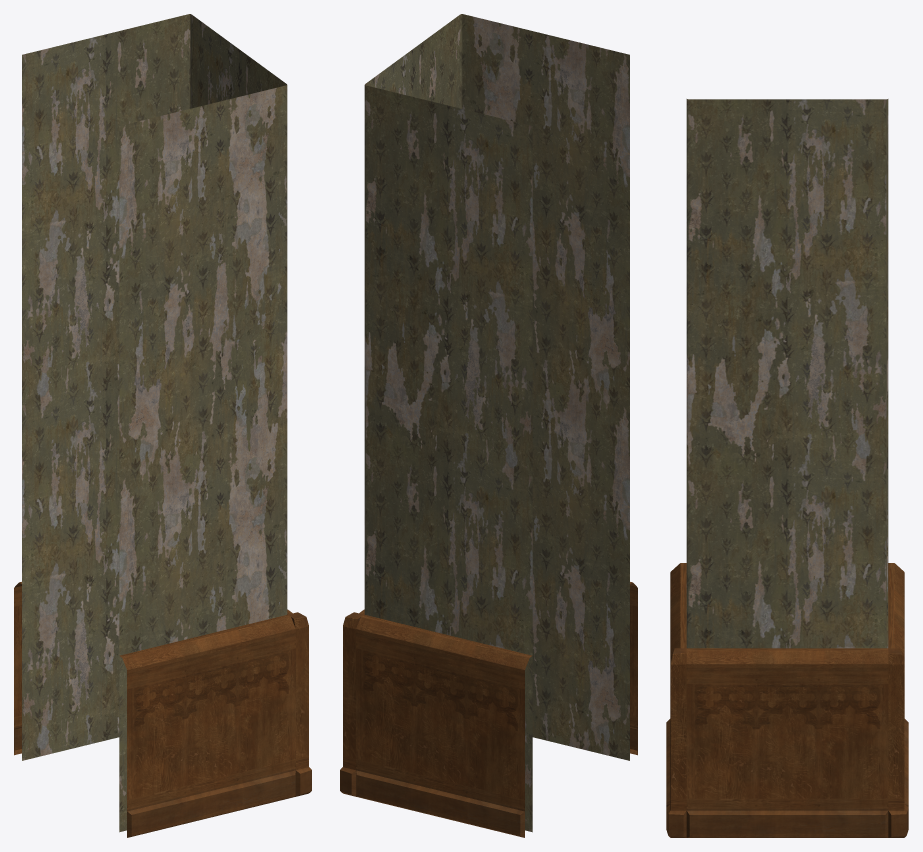
File: SM_Wall_Paper_1g.fbx
3 renders of one model, left to right at view 1: azimuth 30°, elevation 25°; view 2: azimuth 150°, elevation 25°; view 3: azimuth 270°, elevation 25°, orthographic. The views are drawn at different scales.
Visible parts, largest first — view 1: SM_Wall_Paper_1g; view 2: SM_Wall_Paper_1g; view 3: SM_Wall_Paper_1g.
Boxes of the visible parts, x1,y1,x2,y2 form: SM_Wall_Paper_1g: (14,14,311,837); SM_Wall_Paper_1g: (340,14,637,837); SM_Wall_Paper_1g: (666,99,908,837).
Bounding box in the file's own units: 110 × 400 × 120.
